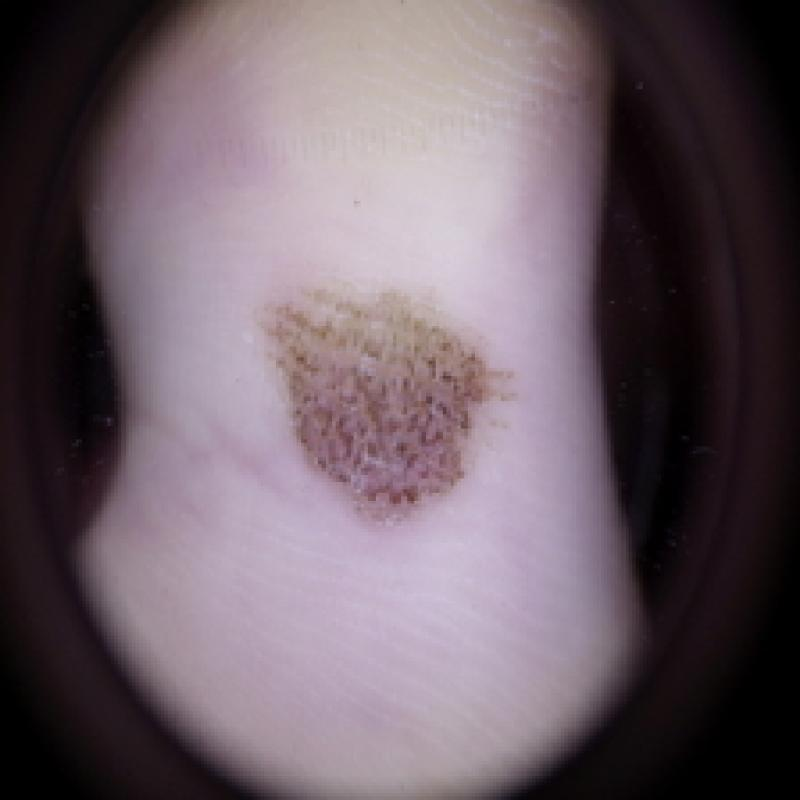benign: (224, 270, 518, 549)
